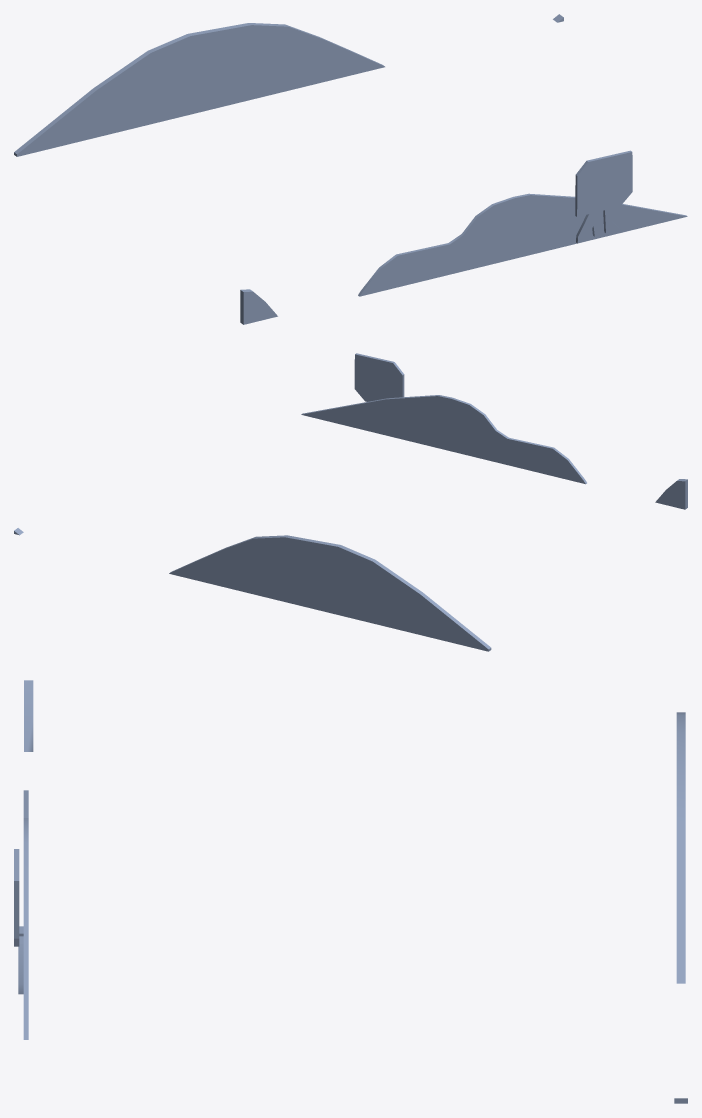
Rendered from frame_0082.glb.
3 views of the same model, one above another, from view 1: azimuth 30°, elevation 25°; view 2: azimuth 150°, elevation 25°; view 3: azimuth 270°, elevation 25° (orthographic). The views are drawn at different scales.
Parts seen in each view (by area): view 1: export_trees_001.002; view 2: export_trees_001.002; view 3: export_trees_001.002.
Boxes of the visible parts, x1,y1,x2,y2 form: export_trees_001.002: [14, 14, 687, 324]; export_trees_001.002: [14, 353, 687, 651]; export_trees_001.002: [14, 680, 687, 1103].
Size of the model in its own units: 0.4327 by 0.0622 by 0.321.
